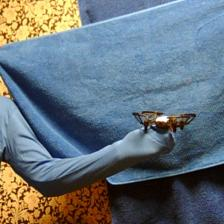drone: (132, 107, 196, 133)
